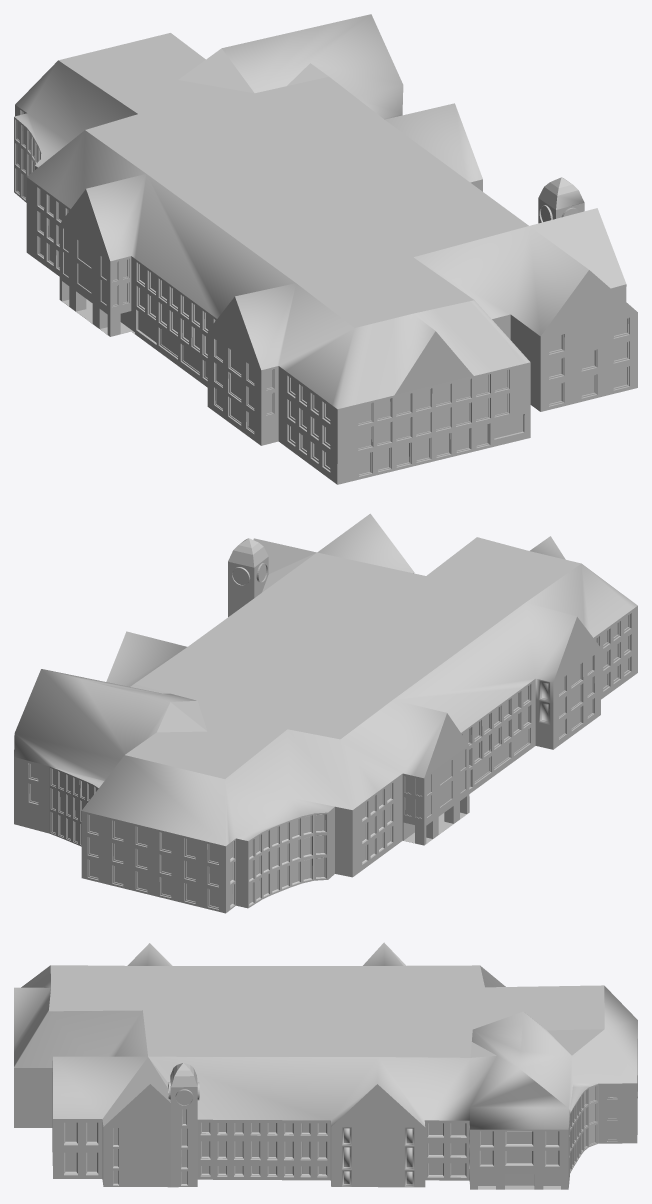
The model's file is WestlakeV0.6.gltf.
3 renders of one model, top to bottom at view 1: azimuth 30°, elevation 25°; view 2: azimuth 150°, elevation 25°; view 3: azimuth 270°, elevation 25°, orthographic. The views are drawn at different scales.
Parts seen in each view (by area): view 1: WestlakeHall_0; view 2: WestlakeHall_0; view 3: WestlakeHall_0.
Boxes of the visible parts, left/top/right/bottom form: WestlakeHall_0: left=14, top=14, right=637, bottom=484; WestlakeHall_0: left=14, top=513, right=637, bottom=913; WestlakeHall_0: left=14, top=942, right=637, bottom=1189.
Size of the model in its own units: 38.11 by 15.03 by 69.71.
1 material, 1 textured.
